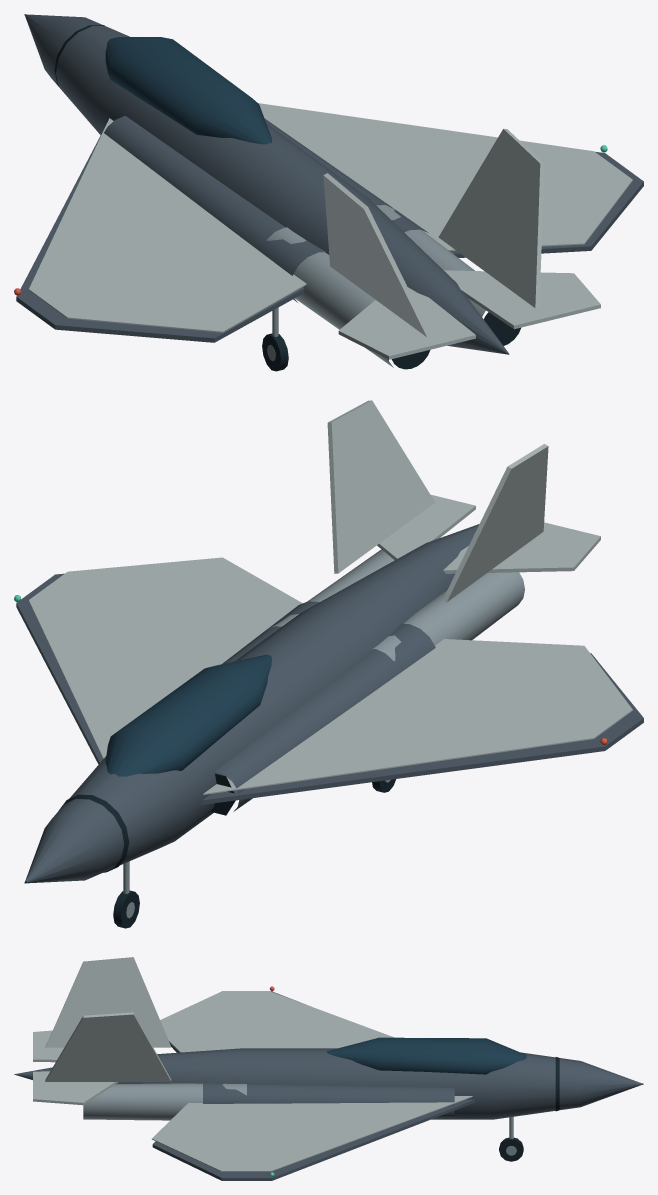
The picture shows the model from 3 angles, top to bottom: view 1: azimuth 30°, elevation 25°; view 2: azimuth 150°, elevation 25°; view 3: azimuth 270°, elevation 25°; orthographic projection. The views are drawn at different scales.
Parts seen in each view (by area): view 1: 夜隼 F-26 original model, landing-gear; view 2: 夜隼 F-26 original model, landing-gear; view 3: 夜隼 F-26 original model, landing-gear.
Boxes of the visible parts, bbox=[...] form: 夜隼 F-26 original model: bbox=[14, 14, 643, 369]; landing-gear: bbox=[262, 307, 288, 371]; 夜隼 F-26 original model: bbox=[14, 400, 643, 883]; landing-gear: bbox=[113, 779, 395, 928]; 夜隼 F-26 original model: bbox=[14, 957, 643, 1180]; landing-gear: bbox=[499, 1117, 523, 1161].
Bounding box in the file's own units: 13.7 × 5.96 × 19.41.
